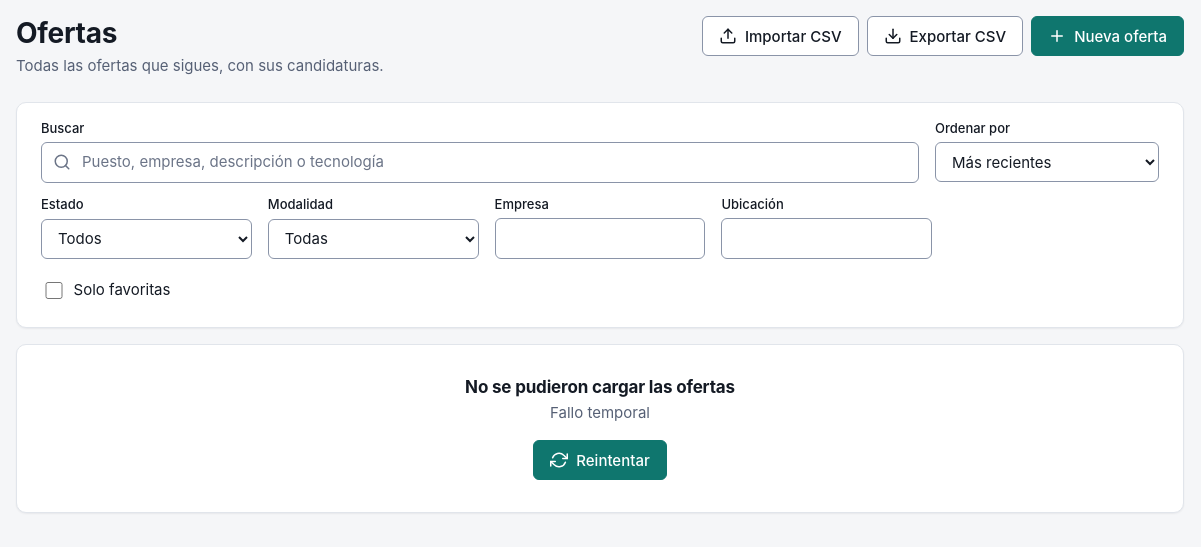
it: OfferListComponent › muestra el error y permite reintentar
Click the button "Reintentar": coordinates (600, 460) [533,440,667,480]
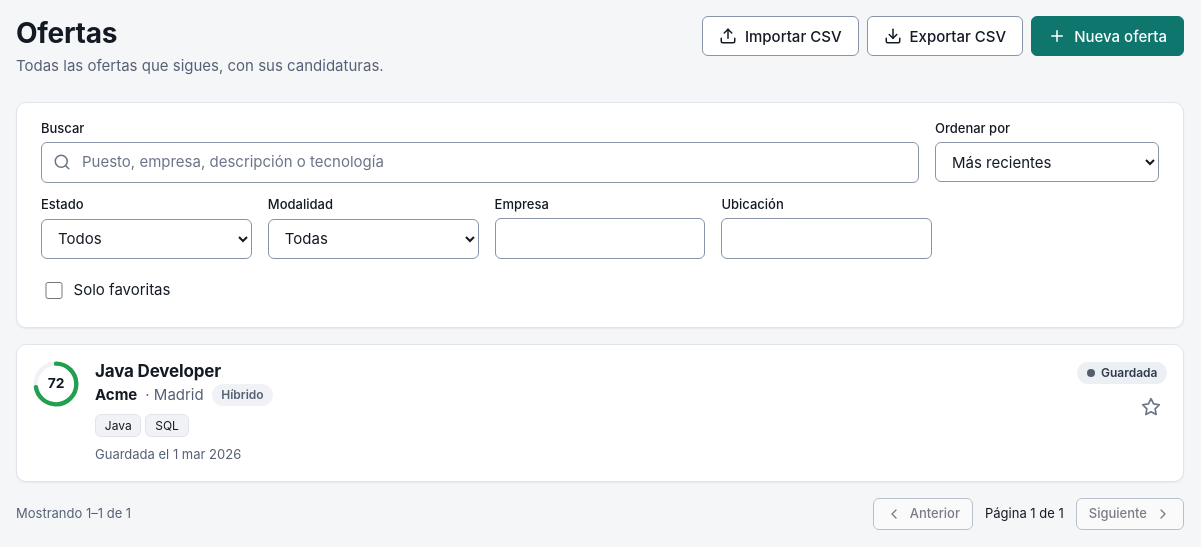
Expected: the text "Java Developer" is shown, [95,360,221,380]
